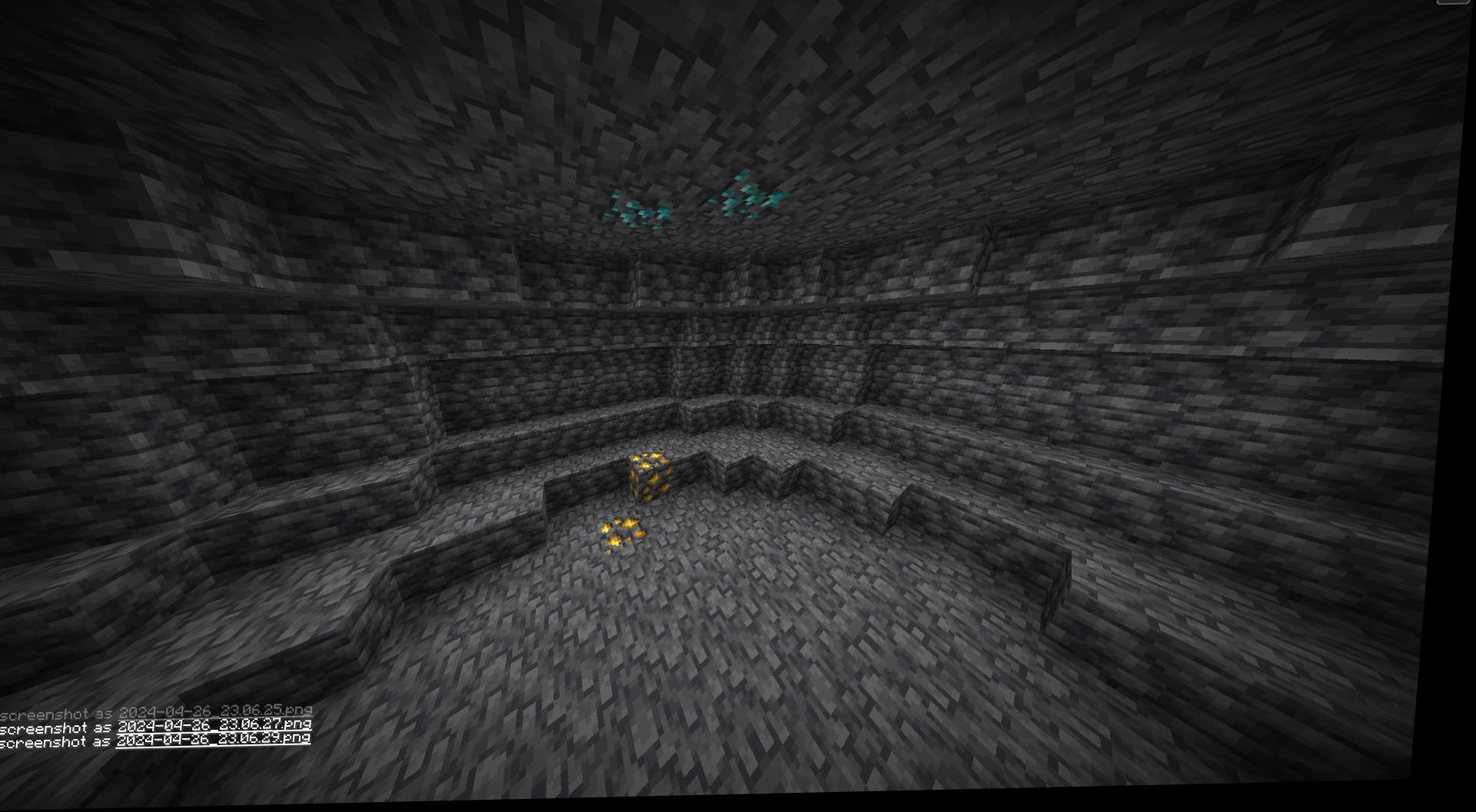diamond ore: (705, 173, 792, 224), (601, 192, 677, 237)
gold ore: (636, 455, 679, 502), (609, 519, 657, 555)
